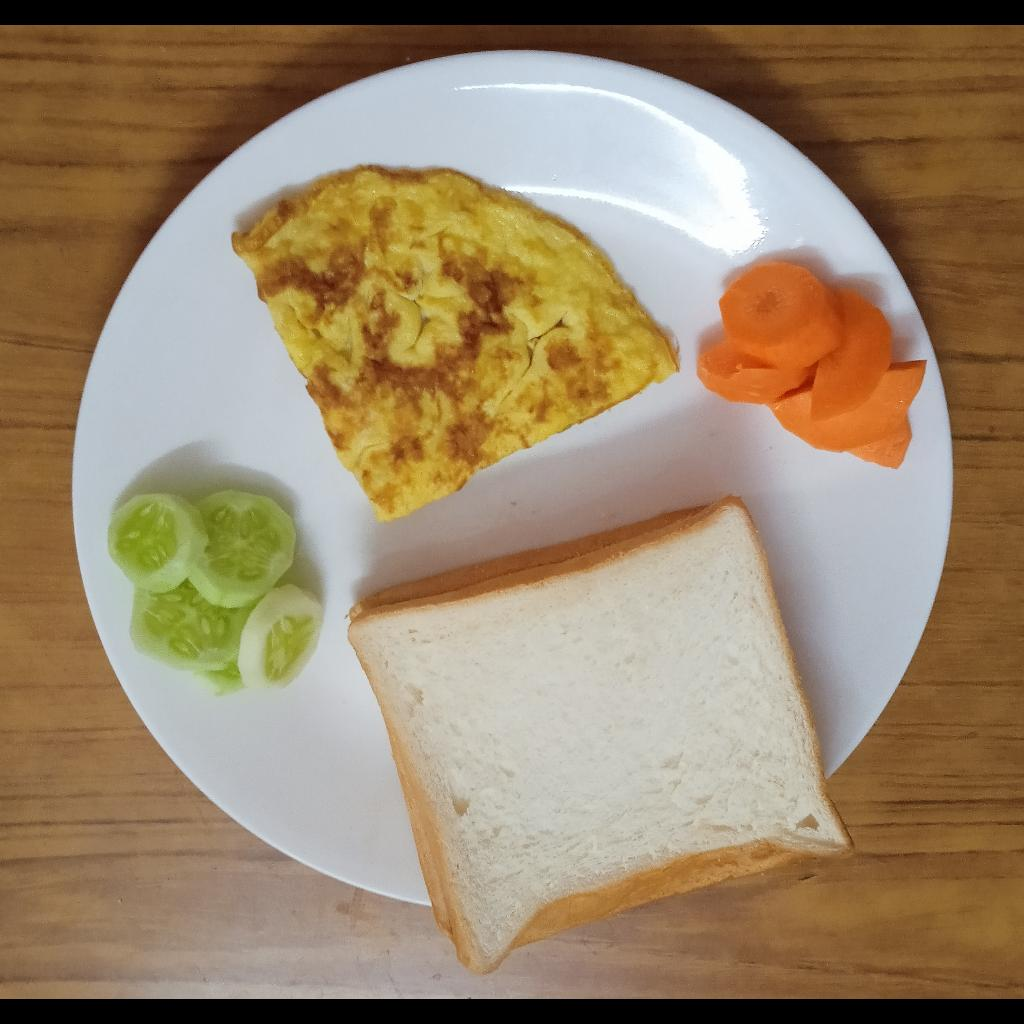bread: (347, 494, 857, 979)
carrot: (698, 262, 927, 472)
cucumber: (108, 490, 324, 696)
egg-poached: (229, 164, 680, 525)
